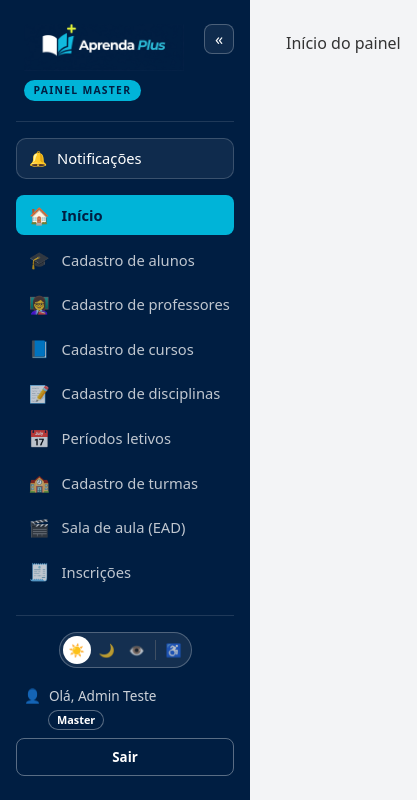
Test: navegador sem armazenamento: o menu ainda recolhe
The image size is (417, 800).
Click the button named "Recolher menu" at (219, 39), box [204,24,234,54]
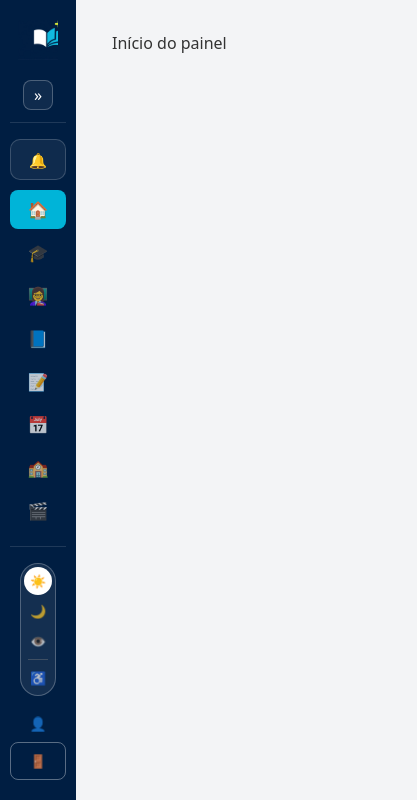
Check: the button named "Expandir menu" is shown, box [23,80,53,110]
